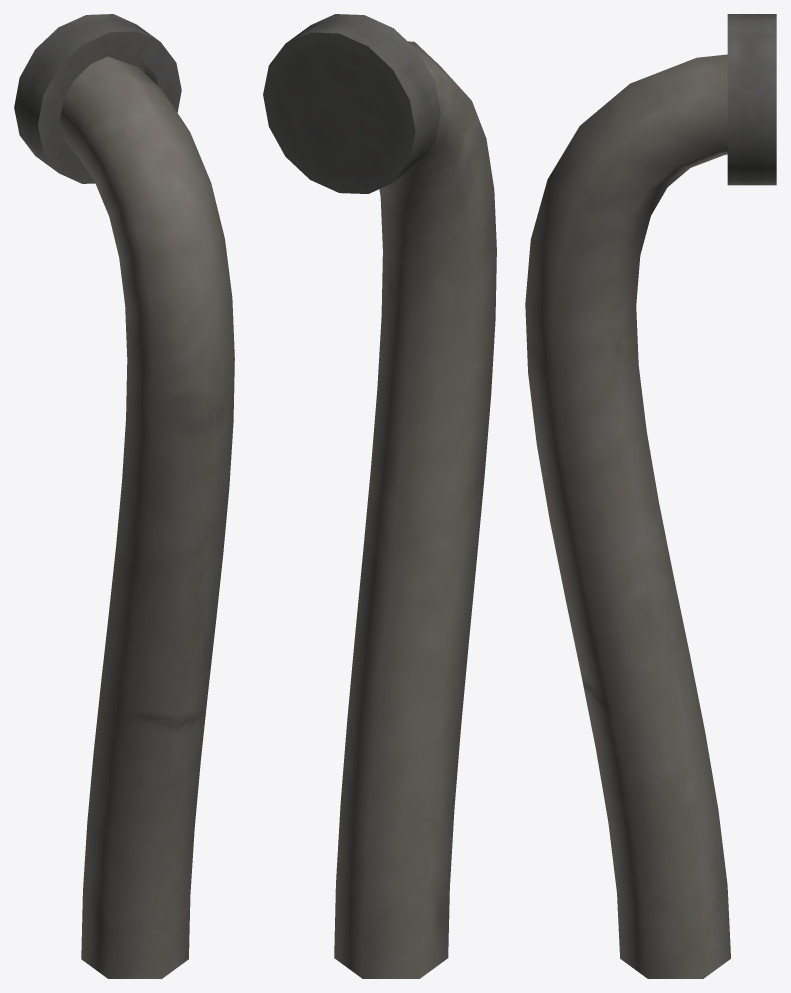
The model's file is cable_cable_end.fbx.
The picture shows the model from 3 angles, left to right: view 1: azimuth 30°, elevation 25°; view 2: azimuth 150°, elevation 25°; view 3: azimuth 270°, elevation 25°; orthographic projection. The views are drawn at different scales.
Visible parts, largest first — view 1: modular_electric_cables__cable_end; view 2: modular_electric_cables__cable_end; view 3: modular_electric_cables__cable_end.
Part boxes in pixels (left/top/right/bottom): modular_electric_cables__cable_end: left=14, top=14, right=234, bottom=978; modular_electric_cables__cable_end: left=263, top=14, right=496, bottom=978; modular_electric_cables__cable_end: left=525, top=14, right=776, bottom=978.
Bounding box in the file's own units: 0.0173 × 0.1045 × 0.0254.
